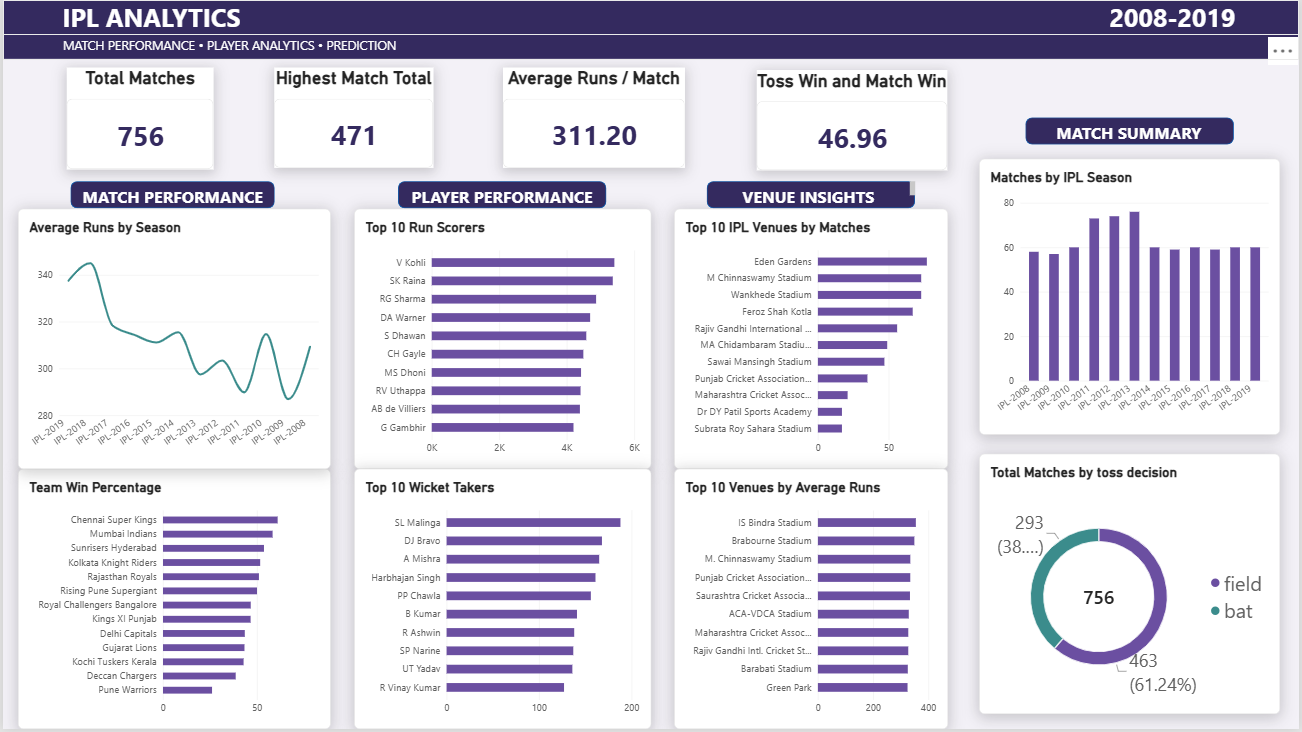

This screenshot's page, from the dashboard's own definition file:
{"tool":"powerbi","page":{"name":"Match Overview","canvas":[1920,1080],"ordinal":0},"visuals":[{"type":"cardVisual","title":"Total Matches","fields":{"Data":["CountNonNull(matches_powerbi.id)"]},"box":[94.3,99.2,217.9,151.3],"z":0},{"type":"cardVisual","title":"Average Runs / Match","fields":{"Data":["Avg(match_runs.total_runs)"]},"box":[740.5,99.2,269.2,148.7],"z":1000},{"type":"cardVisual","title":"Highest Match Total","fields":{"Data":["Max(match_runs.total_runs)"]},"box":[402,100.2,235.9,148.7],"z":2000},{"type":"clusteredColumnChart","title":"Matches by IPL Season","fields":{"Category":["matches_powerbi.Season"],"Y":["CountNonNull(matches_powerbi.id)"]},"box":[1445.7,234.3,445.7,408.6],"z":3000},{"type":"clusteredBarChart","title":"Team Win Percentage","fields":{"Category":["team_stats.team"],"Y":["Avg(team_stats.Win_Percentage)"]},"box":[22.9,694.3,462.9,385.7],"z":4000},{"type":"lineChart","title":"Average Runs by Season","fields":{"Category":["match_runs.Season"],"Y":["Avg(match_runs.total_runs)"]},"box":[22.9,308.6,462.9,385.7],"z":5000},{"type":"clusteredBarChart","title":"Top 10 Run Scorers","fields":{"Category":["player_batting.batsman"],"Y":["Sum(player_batting.Runs)"]},"box":[520,308.6,440,385.7],"z":6000},{"type":"clusteredBarChart","title":"Top 10 Wicket Takers","fields":{"Category":["player_bowling.bowler"],"Y":["Sum(player_bowling.Wickets)"]},"box":[520,694.3,440,385.7],"z":7000},{"type":"clusteredBarChart","title":"Top 10 IPL Venues by Matches","fields":{"Category":["matches_powerbi.venue"],"Y":["matches_powerbi.Total Matches"]},"box":[994.3,308.6,405.7,385.7],"z":8000},{"type":"clusteredBarChart","title":"Top 10 Venues by Average Runs","fields":{"Category":["venue_avg_runs.venue"],"Y":["Sum(venue_avg_runs.Average_Runs)"]},"box":[994.3,694.3,405.7,385.7],"z":9000},{"type":"cardVisual","title":"Toss Win and Match Win","fields":{"Data":["matches_powerbi.Toss Win Match Win %"]},"box":[1117.4,102.8,282.1,148.7],"z":10000},{"type":"donutChart","title":"Total Matches by toss decision","fields":{"Category":["matches_powerbi.toss_decision"],"Y":["matches_powerbi.Total Matches"]},"box":[1445.7,671.4,445.7,385.7],"z":11000},{"type":"shape","box":[0,0,1920.5,87.2],"z":12000,"group":"g1"},{"type":"textbox","box":[0,234,180,150],"z":13000},{"type":"textbox","box":[0,0,1920.5,51.3],"z":14000,"group":"g1"},{"type":"textbox","box":[88.6,42.9,1831.4,45.7],"z":15000,"group":"g1"},{"type":"shape","box":[100,268.8,302.5,40],"z":16000},{"type":"shape","box":[585.7,268.6,308.6,40],"z":17000},{"type":"shape","box":[1042.9,268.6,308.6,40],"z":18000},{"type":"shape","box":[1514.3,174.3,308.6,40],"z":19000},{"type":"textbox","box":[100,268.6,302.9,40],"z":20000},{"type":"textbox","box":[585.7,268.6,308.6,40],"z":21000},{"type":"textbox","box":[1042.9,268.6,308.6,40],"z":22000},{"type":"textbox","box":[1513.3,173.3,310,40],"z":23000},{"type":"group","id":"g1","title":"Group 1","box":[0,0,1920.5,88.6],"z":23001}]}

Visuals, with their boxes in screenshot pixels (x1, y1, x2, y2), scaled from the page's 1920x1080 canvas onto the 1302x732 screenshot:
"Total Matches" cardVisual: Rect(64, 67, 212, 170)
"Average Runs / Match" cardVisual: Rect(502, 67, 685, 168)
"Highest Match Total" cardVisual: Rect(273, 68, 433, 169)
"Matches by IPL Season" clusteredColumnChart: Rect(980, 159, 1283, 436)
"Team Win Percentage" clusteredBarChart: Rect(16, 471, 329, 731)
"Average Runs by Season" lineChart: Rect(16, 209, 329, 471)
"Top 10 Run Scorers" clusteredBarChart: Rect(353, 209, 651, 471)
"Top 10 Wicket Takers" clusteredBarChart: Rect(353, 471, 651, 731)
"Top 10 IPL Venues by Matches" clusteredBarChart: Rect(674, 209, 949, 471)
"Top 10 Venues by Average Runs" clusteredBarChart: Rect(674, 471, 949, 731)
"Toss Win and Match Win" cardVisual: Rect(758, 70, 949, 170)
"Total Matches by toss decision" donutChart: Rect(980, 455, 1283, 716)
shape: Rect(0, 0, 1301, 59)
textbox: Rect(0, 159, 122, 260)
textbox: Rect(0, 0, 1301, 35)
textbox: Rect(60, 29, 1301, 60)
shape: Rect(68, 182, 273, 209)
shape: Rect(397, 182, 606, 209)
shape: Rect(707, 182, 916, 209)
shape: Rect(1027, 118, 1236, 145)
textbox: Rect(68, 182, 273, 209)
textbox: Rect(397, 182, 606, 209)
textbox: Rect(707, 182, 916, 209)
textbox: Rect(1026, 117, 1236, 145)
"Group 1" group: Rect(0, 0, 1301, 60)
